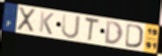D: (104, 20, 124, 46), (125, 23, 144, 49)
K: (38, 10, 55, 36)
T: (83, 16, 100, 43)
U: (61, 12, 81, 40)
X: (17, 6, 37, 33)
